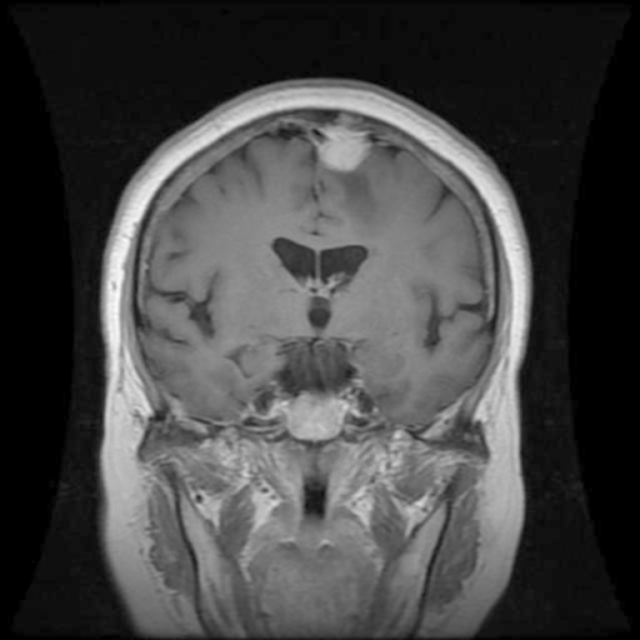meningioma tumor: (304, 110, 385, 174)
